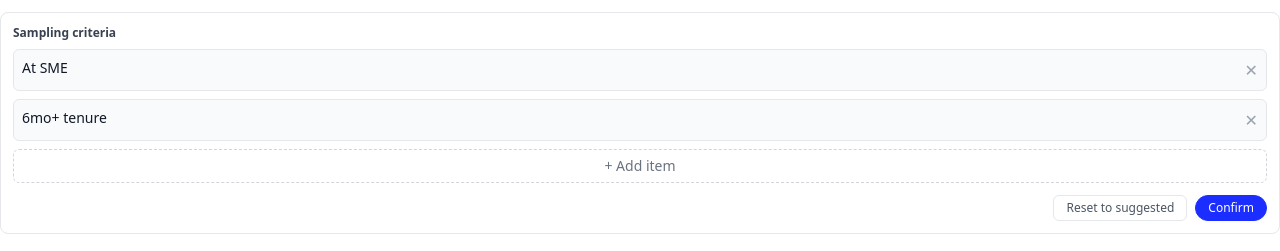
ListEditorWidget › Reset re-seeds from initial_items
Click the button with test id "list-item-c0-remove" at (1251, 70), box [1245, 58, 1258, 82]
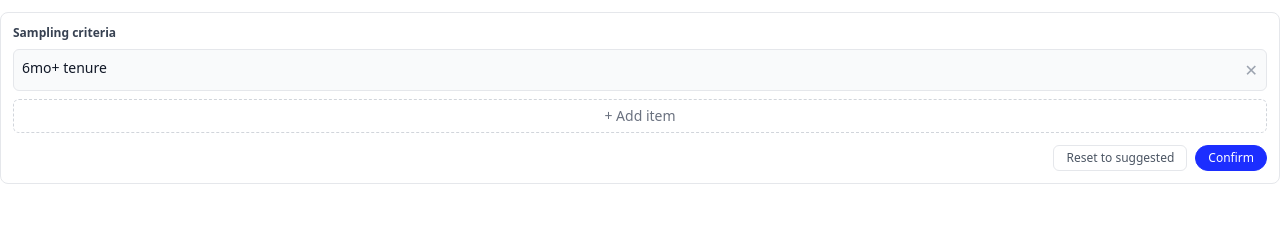
Expected: the field showing "At SME" is not shown
Click the button with test id "list-editor-reset" at (1120, 158), box [1054, 145, 1187, 171]
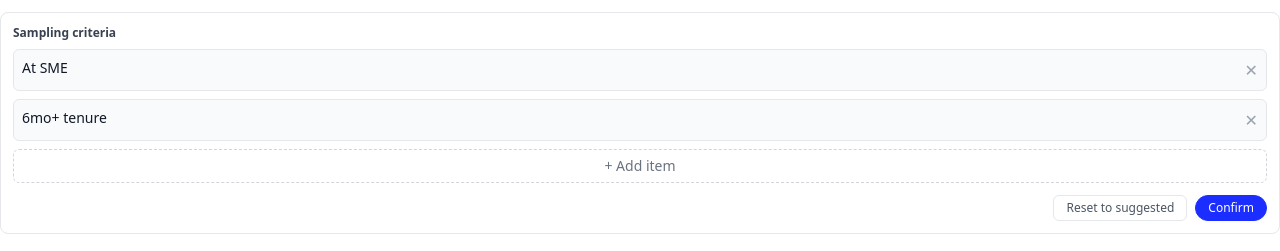
Result: the 1st field showing "At SME" is shown at [22, 58, 1237, 79]
